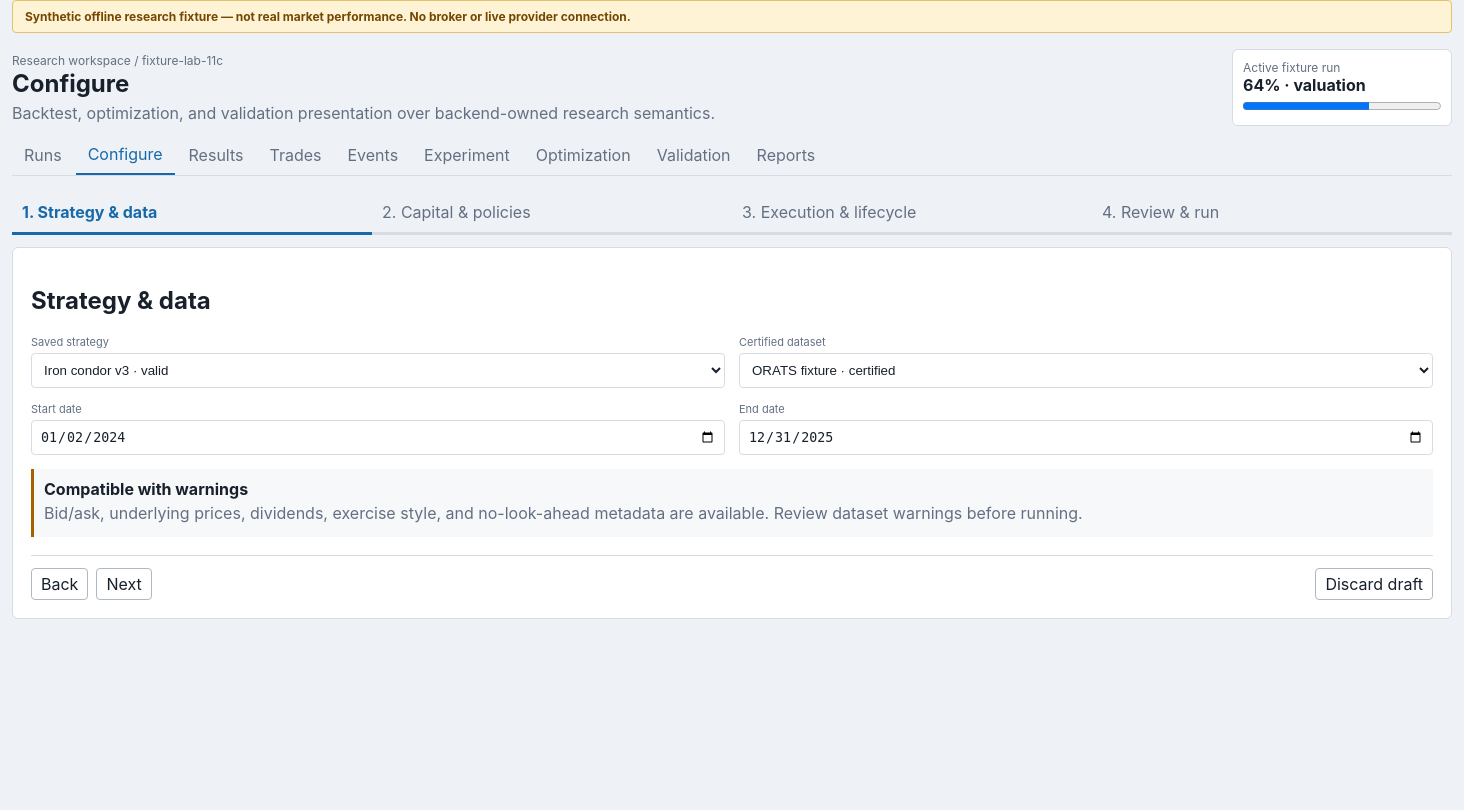
research workspace › preserves wizard inputs and requires explicit acknowledgement
Click the button "4. Review & run".
click(1170, 212)  # box [1092, 192, 1452, 235]
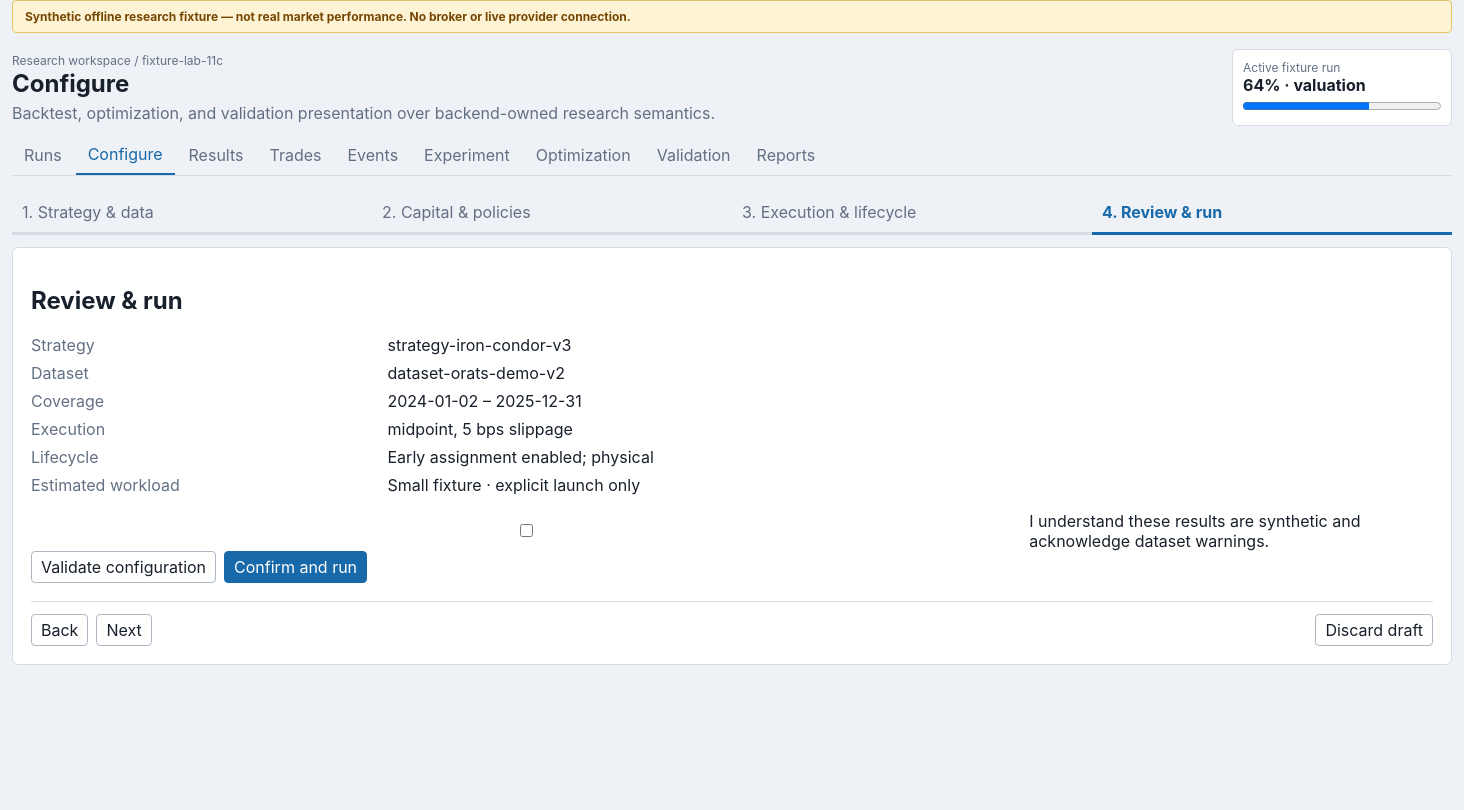
expect the button "Confirm and run" is disabled: met, box [224, 551, 367, 583]
Click the checkbox labelled "understand these results are synthetic".
click(527, 531)  # box [35, 524, 1018, 537]
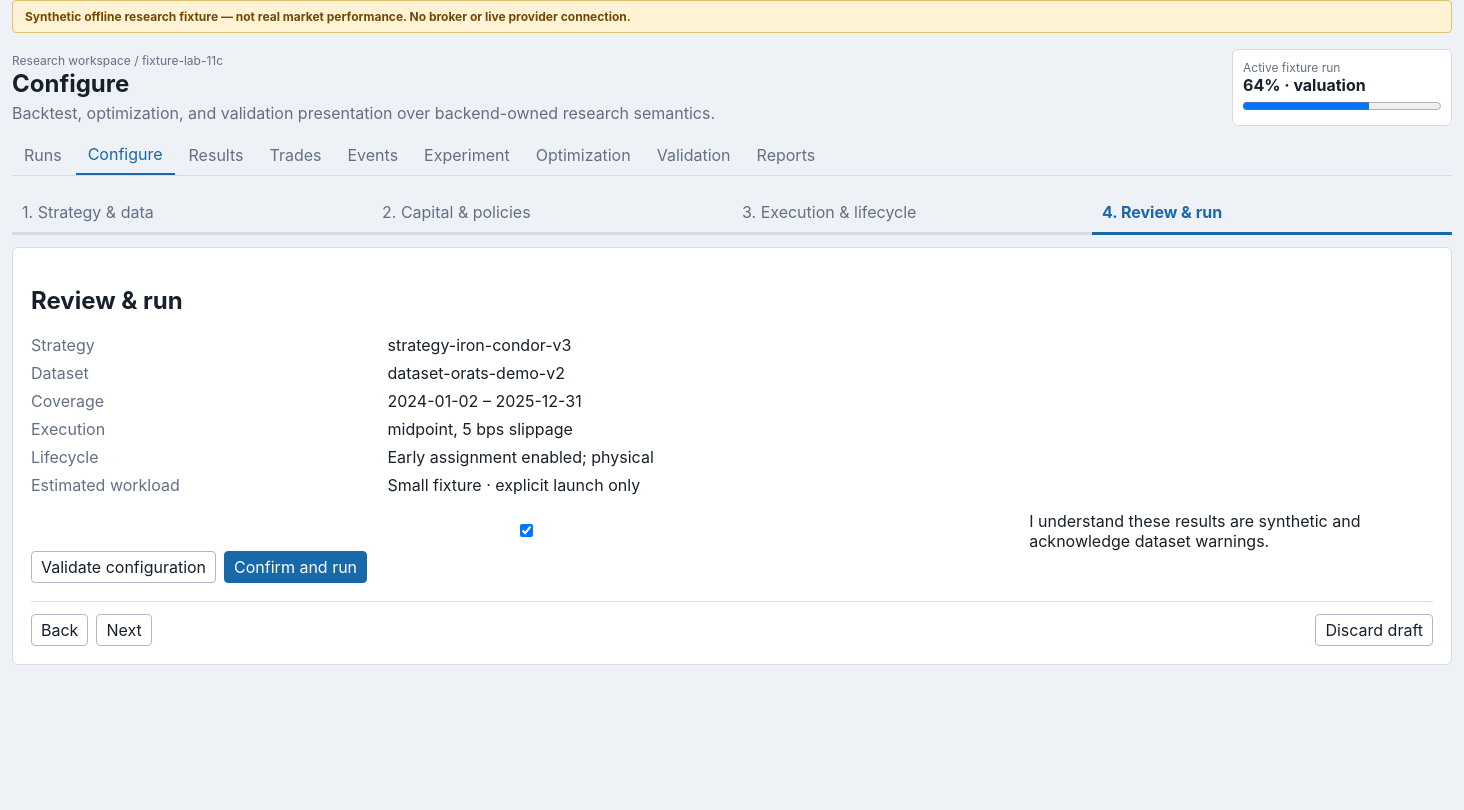
expect the button "Confirm and run" is enabled: met, box [224, 551, 367, 583]
Click the button "Validate configuration".
click(124, 567)  # box [31, 551, 216, 583]
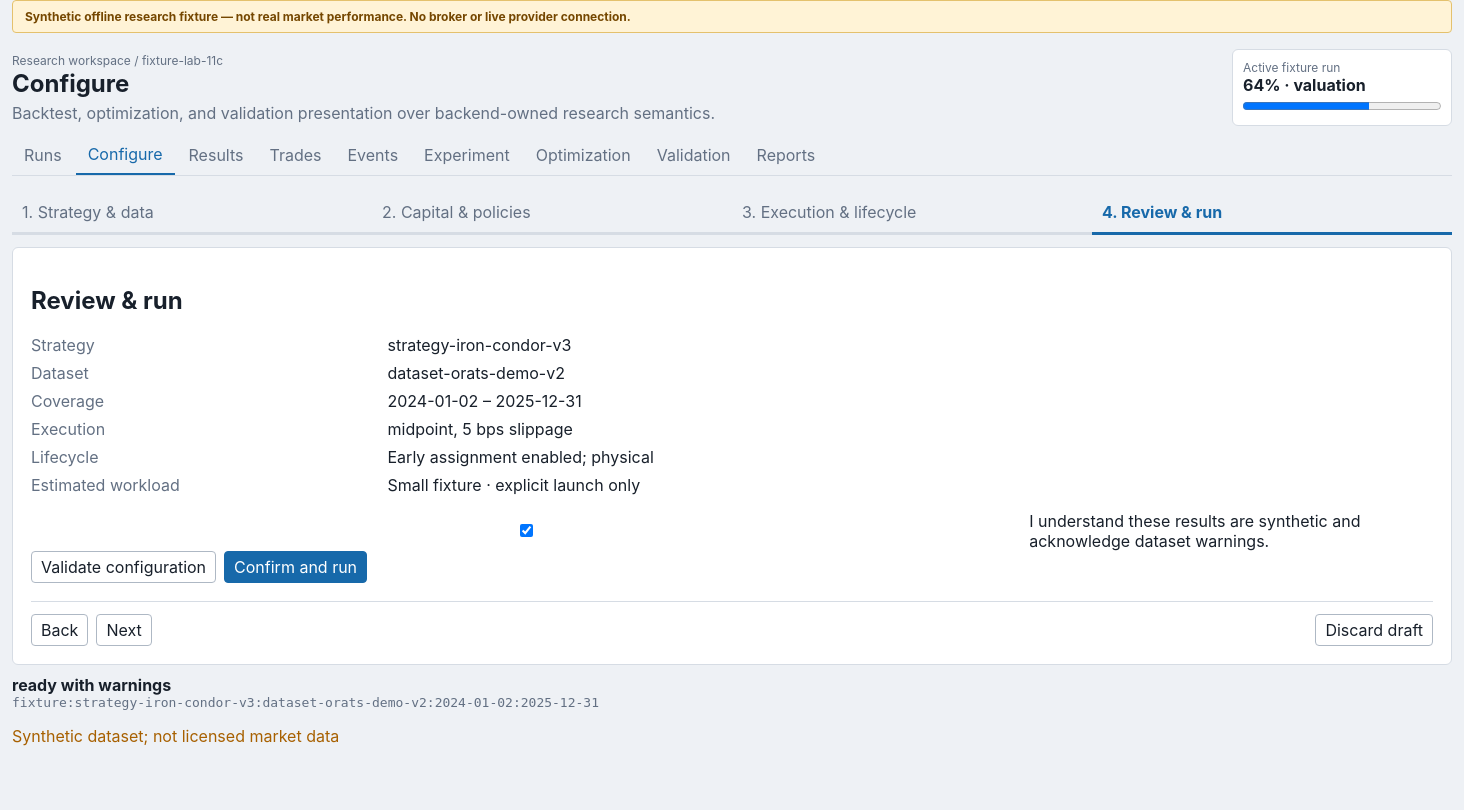
expect the text "fixture:strategy-iron-condor-v3" is shown: met, box [12, 695, 599, 710]
